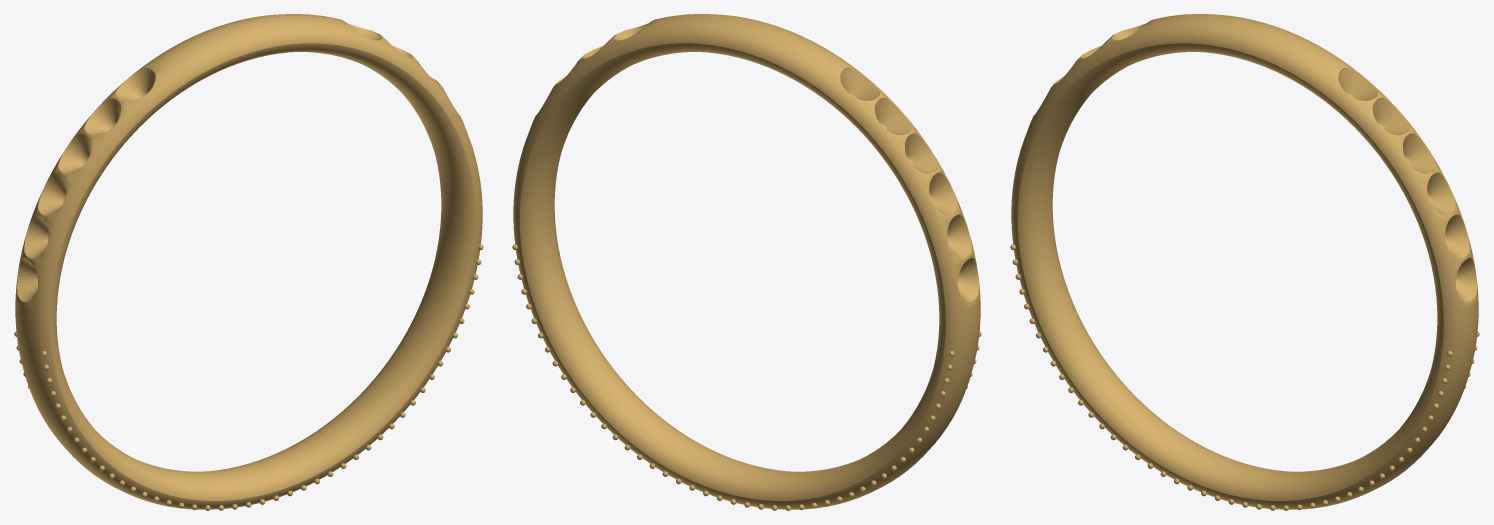
The model's file is vintage-bezel-accents.glb.
3 views of the same model, side by side, from view 1: azimuth 30°, elevation 25°; view 2: azimuth 150°, elevation 25°; view 3: azimuth 330°, elevation 25° (orthographic).
Visible parts, largest first — view 1: Band; view 2: Band; view 3: Band.
Part boxes in pixels (x1,y1,x2,y2): Band: (15,14,482,509); Band: (513,14,980,509); Band: (1011,14,1478,509).
Bounding box in the file's own units: 19.6 × 19.6 × 2.22.
